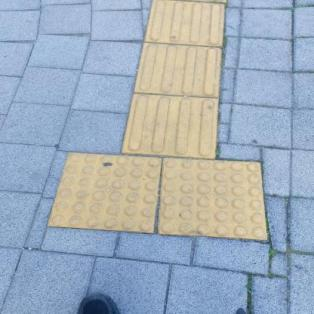Podoctatil: (38, 1, 279, 248)
